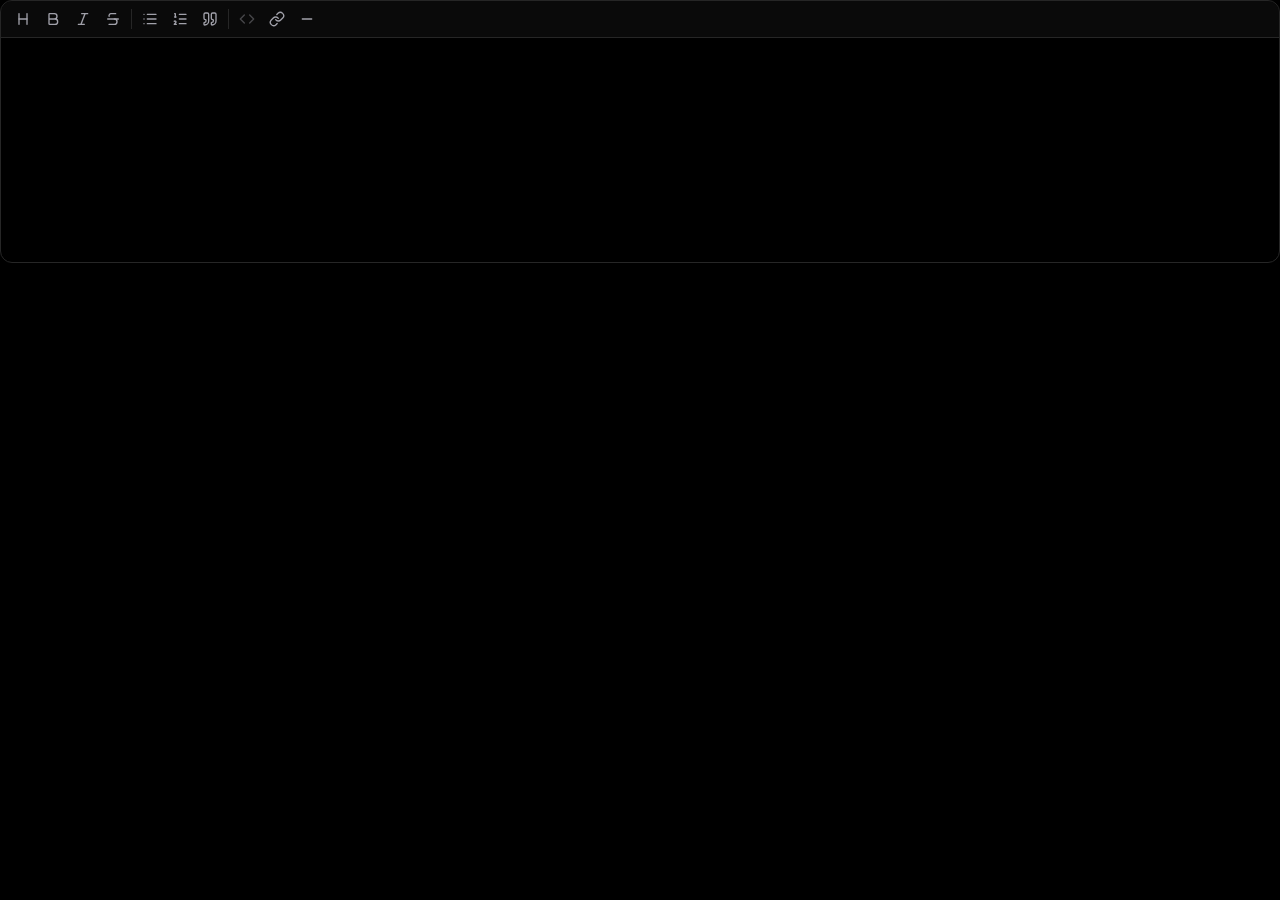
Test: WysiwygEditor › clicking outside the dialog closes it
The width and height of the screenshot is (1280, 900).
Click the button titled "Link (⌘K)" at (277, 19), box [263,5,291,33]
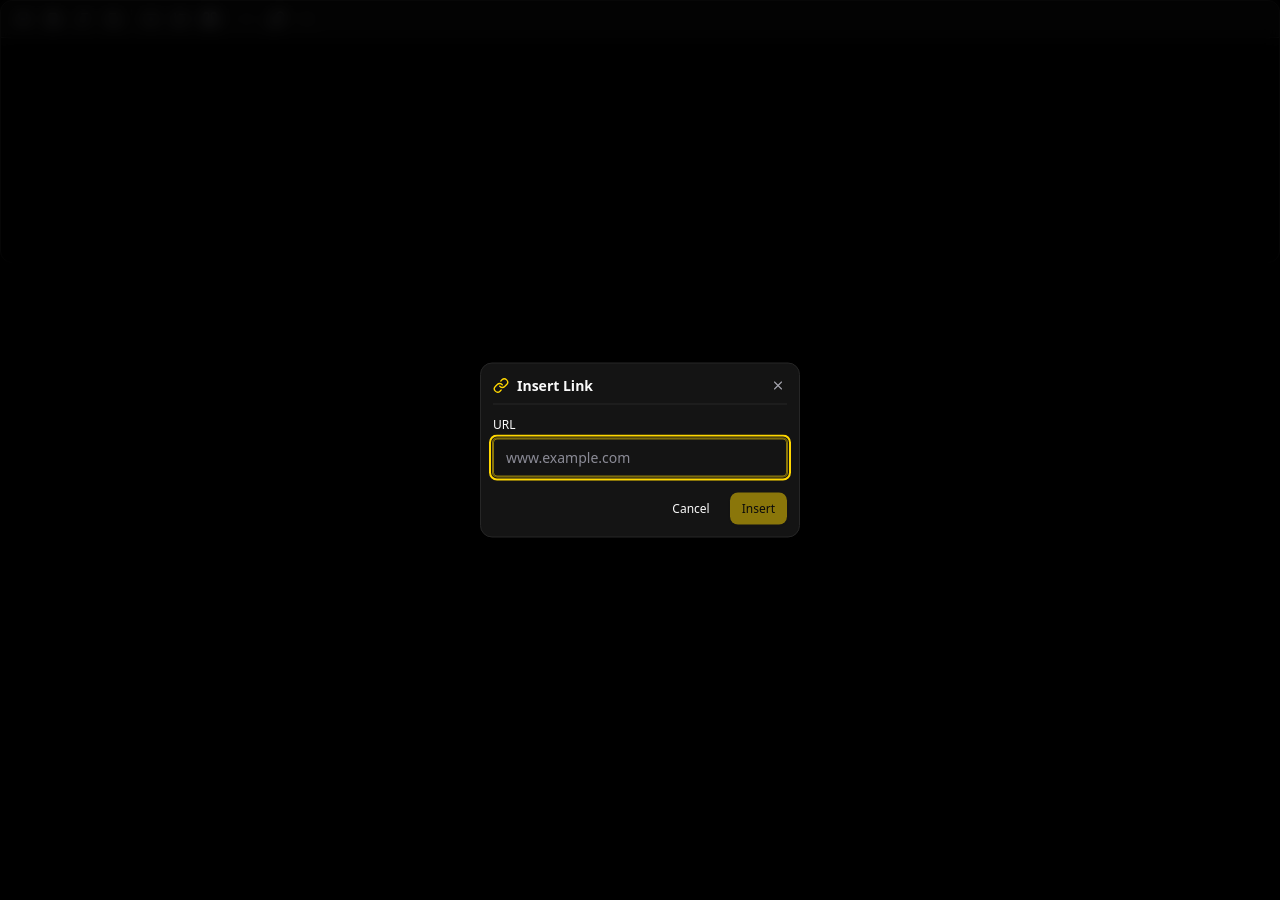
Press the mouse on the element showing "Insert Link URL Cancel Insert" at (640, 450), box [0,0,1279,899]
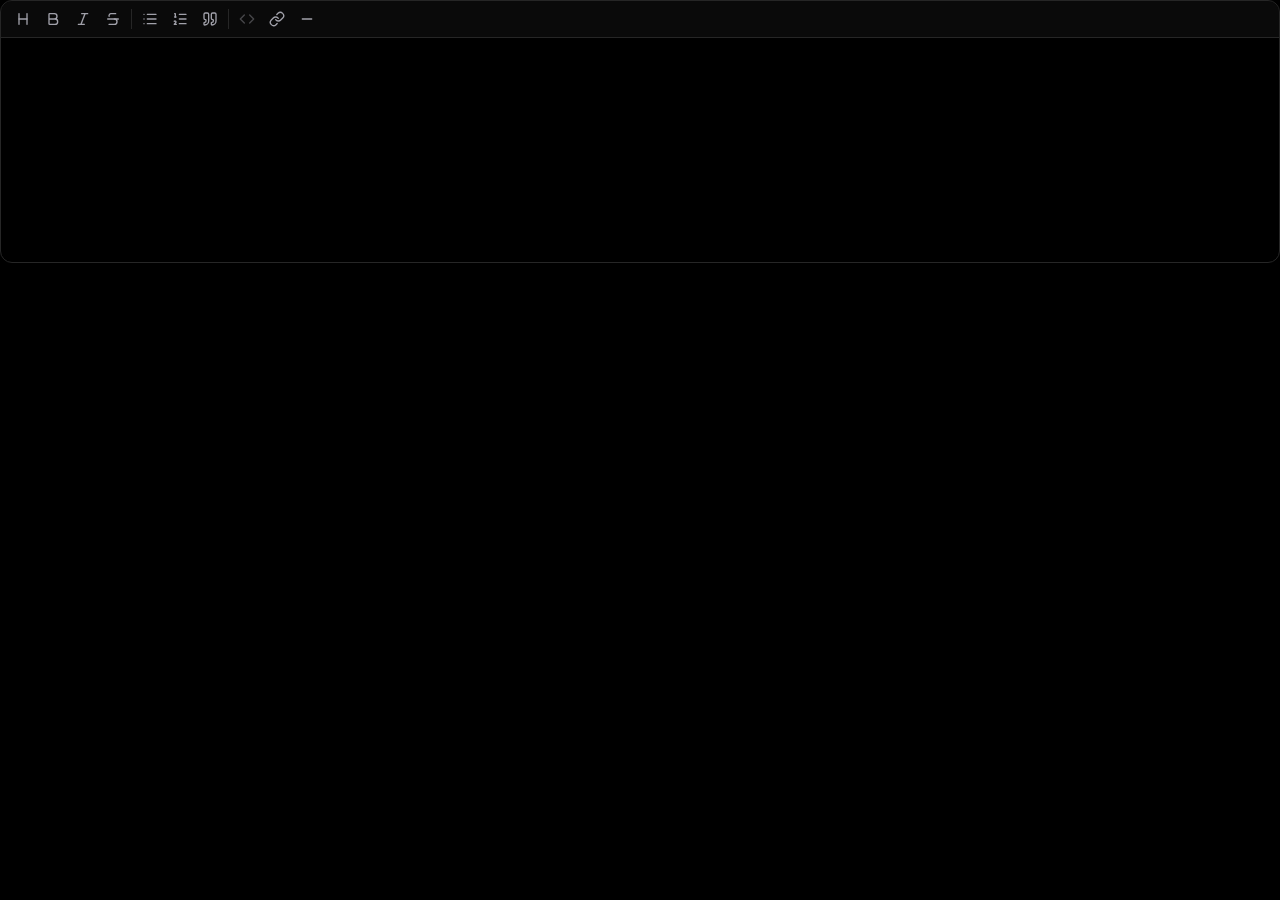
Expected: the text "Insert Link" is gone
